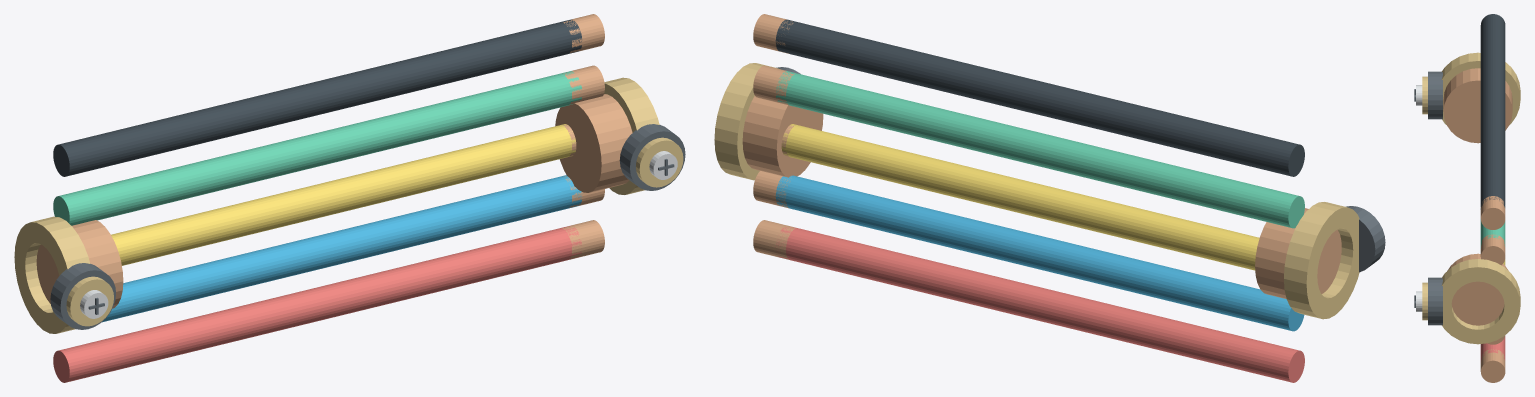
Rendered from cableSegment.glb.
3 views of the same model, side by side, from view 1: azimuth 30°, elevation 25°; view 2: azimuth 150°, elevation 25°; view 3: azimuth 270°, elevation 25° (orthographic). The views are drawn at different scales.
Parts seen in each view (by area): view 1: cableSegment-detailed; view 2: cableSegment-detailed; view 3: cableSegment-detailed.
Part boxes in pixels (left/top/right/bottom): cableSegment-detailed: left=14, top=14, right=685, bottom=382; cableSegment-detailed: left=714, top=14, right=1385, bottom=382; cableSegment-detailed: left=1414, top=14, right=1520, bottom=382.
Size of the model in its own units: 3.52 by 1.27 by 0.699.
